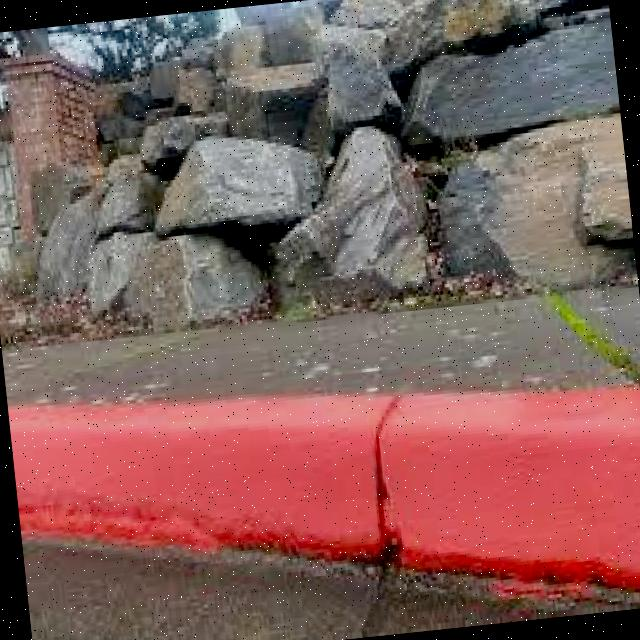curb: (7, 359, 404, 614), (375, 373, 640, 627)
